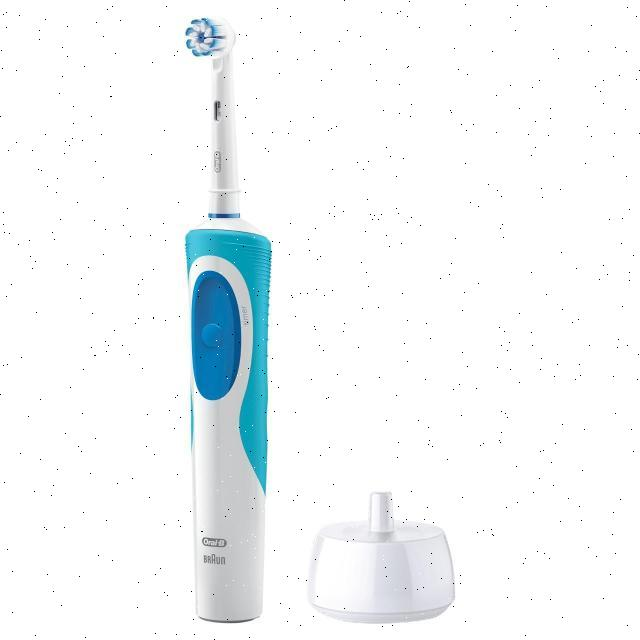toothbrush: (162, 1, 282, 622)
